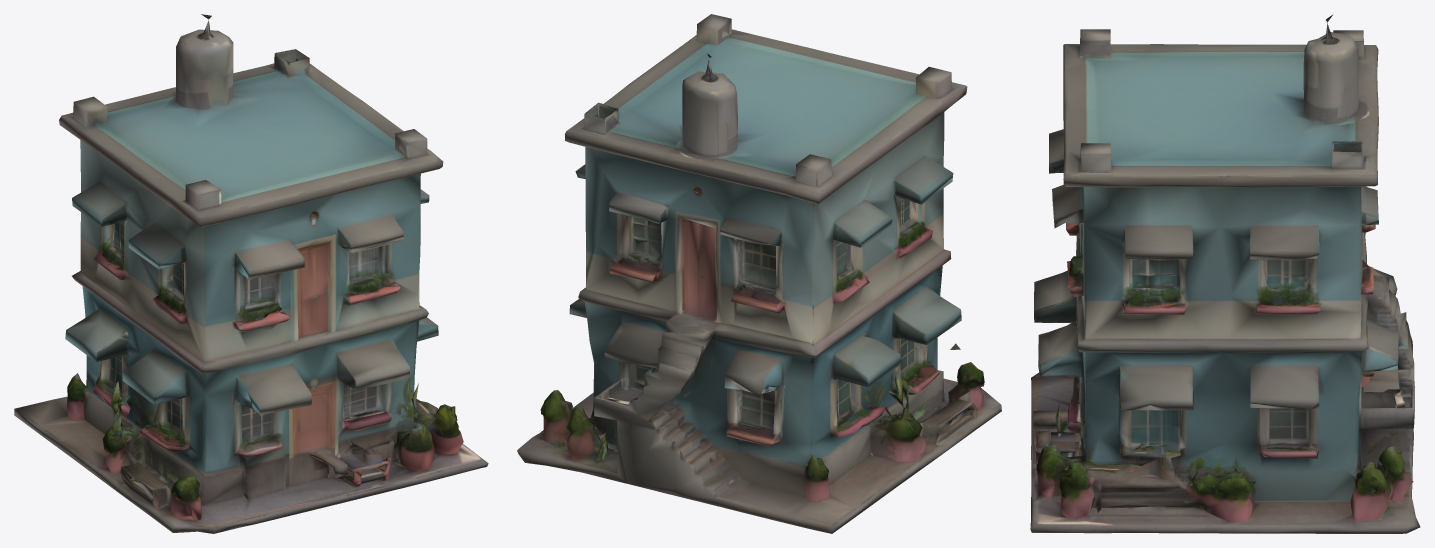
File: IndianBuilding3.fbx
The picture shows the model from 3 angles, left to right: view 1: azimuth 30°, elevation 25°; view 2: azimuth 150°, elevation 25°; view 3: azimuth 270°, elevation 25°; orthographic projection. The views are drawn at different scales.
Visible parts, largest first — view 1: Mesh1.0; view 2: Mesh1.0; view 3: Mesh1.0.
Boxes of the visible parts, <box> form: Mesh1.0: <box>14,14,488,533</box>; Mesh1.0: <box>517,14,1001,533</box>; Mesh1.0: <box>1030,14,1420,533</box>.
Size of the model in its own units: 561 by 700 by 556.
Materials: 1 (1 with a texture image).
